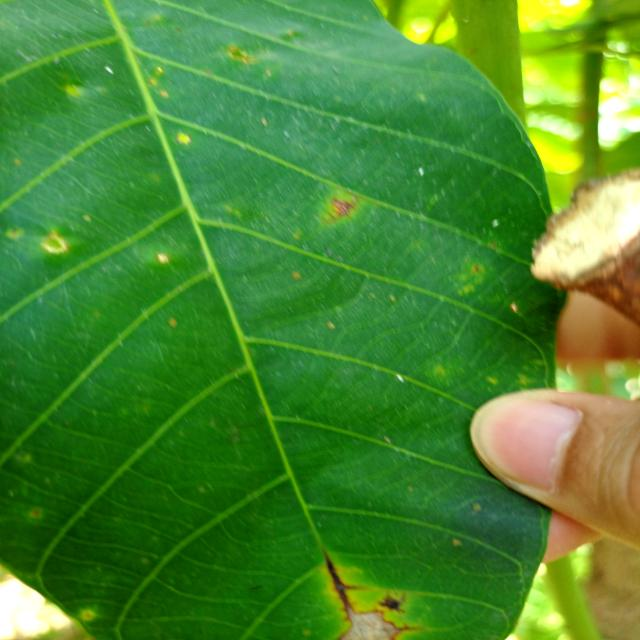Corynespora: (322, 548, 365, 617), (321, 196, 362, 224)
